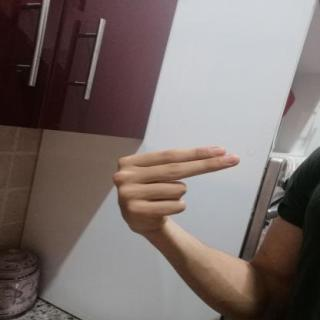AYN: (104, 137, 253, 238)
